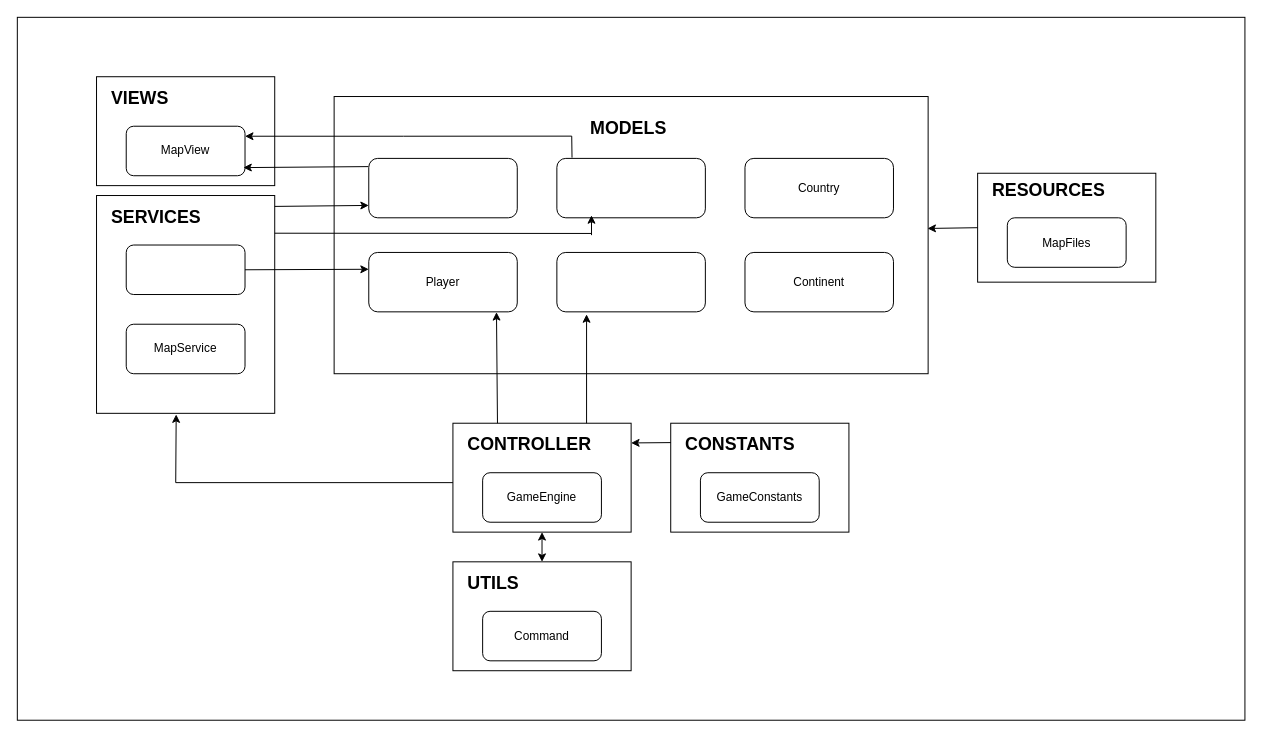
The diagram is 1262 pixels wide and 738 high, and some of its shapes have lost their labels. Here are the shapes that lost their labels. From the top down, the centre of each, then its label:
[442,187]: GameState
[630,187]: Map
[185,269]: PlayerService
[630,281]: Order
